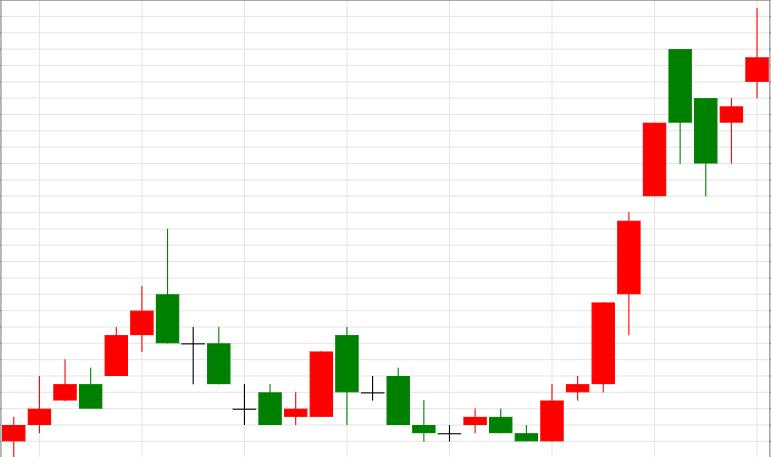bullish_engulfing_rise: (335, 327, 564, 441)
three_white_soldiers_rise: (336, 124, 666, 442)
